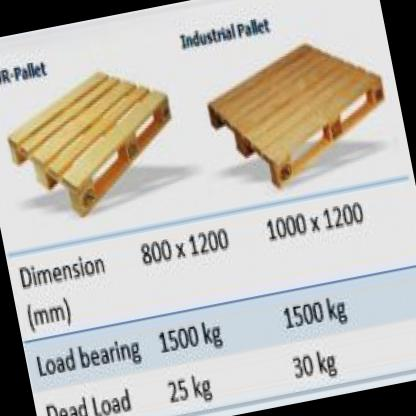BoxFace: (208, 39, 390, 191), (5, 68, 172, 219)
